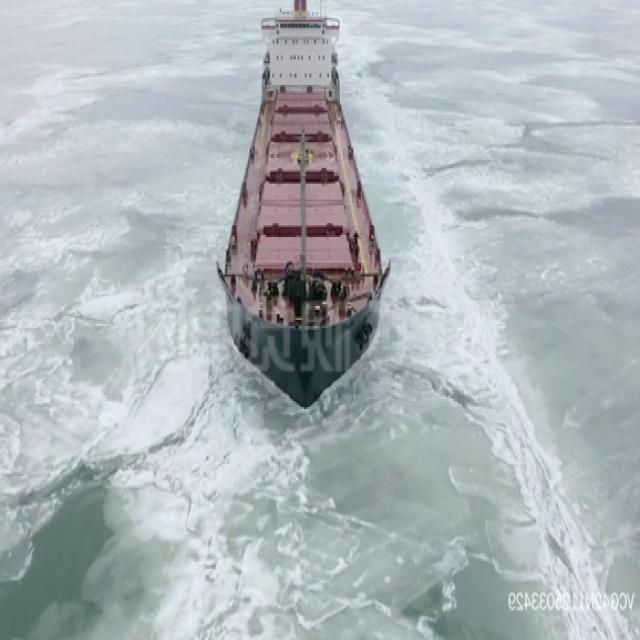cargoship: (218, 0, 389, 397)
